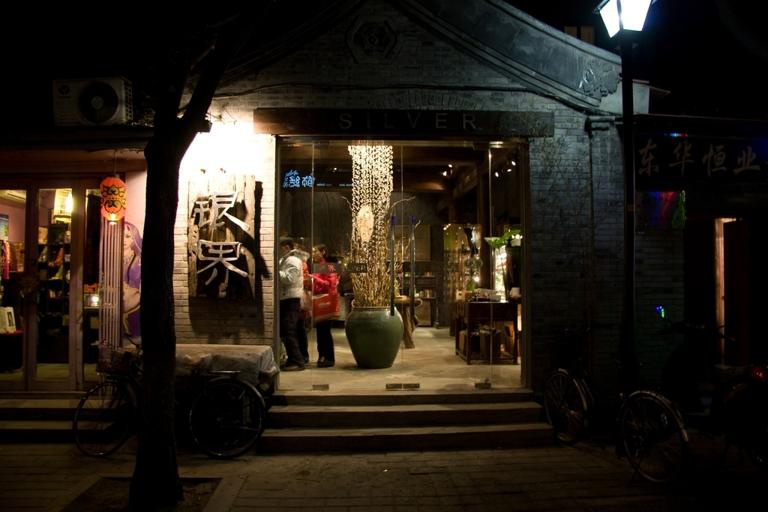non-vehicle: (71, 350, 266, 459), (543, 361, 689, 488)
